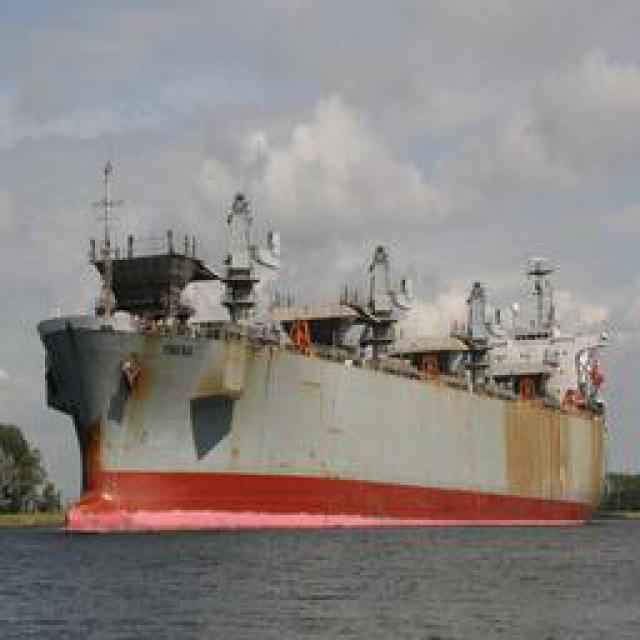Ship: (54, 177, 619, 520)
